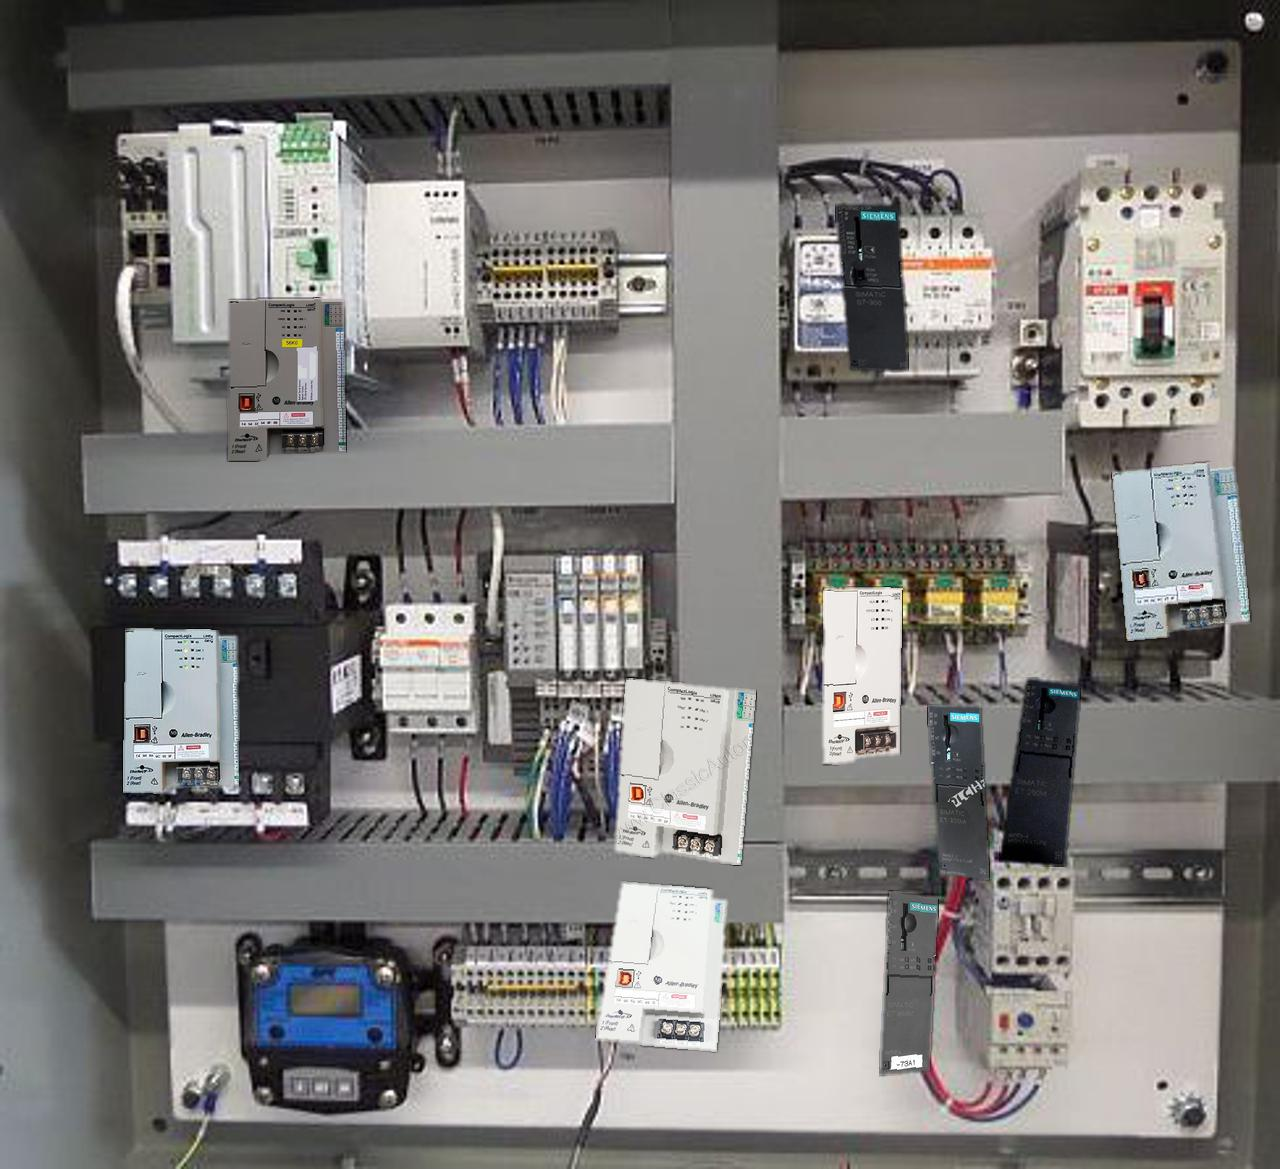AllenBradley: (615, 678, 755, 864), (1112, 462, 1249, 640), (595, 882, 726, 1050), (227, 298, 345, 460), (123, 629, 237, 793), (823, 587, 902, 763)
Siemens: (836, 204, 906, 370)
